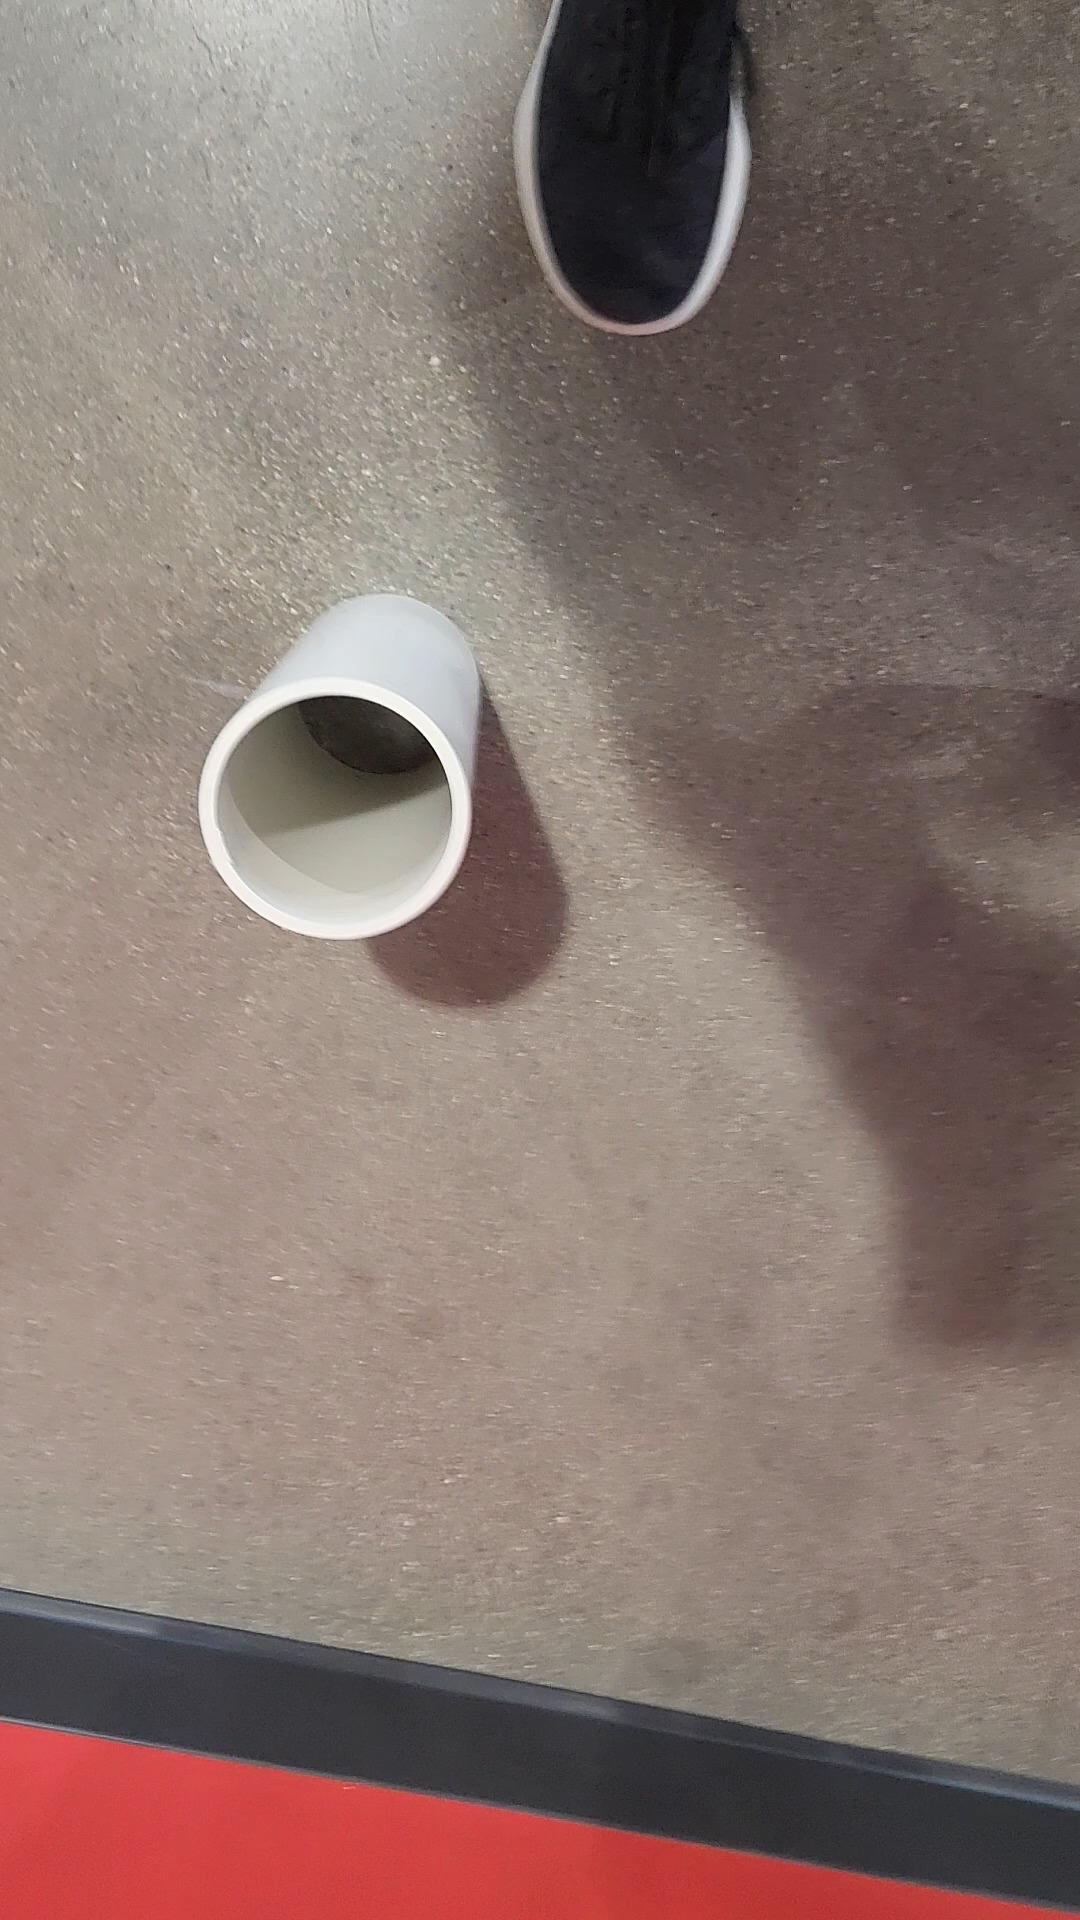coral: (202, 598, 480, 942)
